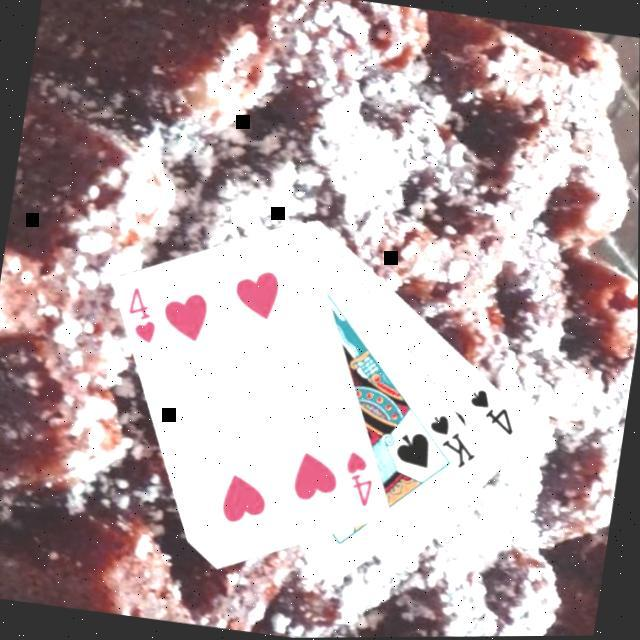4H: (123, 282, 167, 347), (340, 446, 383, 510)
4S: (466, 383, 524, 438)
KS: (424, 409, 487, 473)
